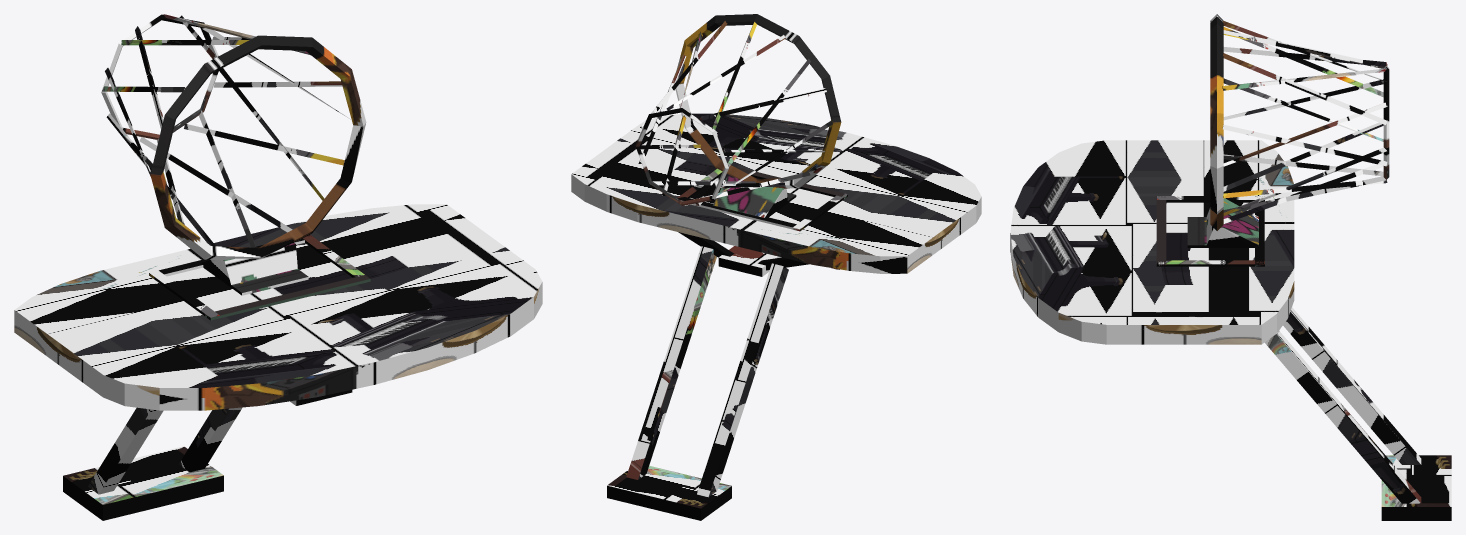
3 views of the same model, side by side, from view 1: azimuth 30°, elevation 25°; view 2: azimuth 150°, elevation 25°; view 3: azimuth 270°, elevation 25° (orthographic). The views are drawn at different scales.
Size of the model in its own units: 1 by 1.19 by 1.01.
